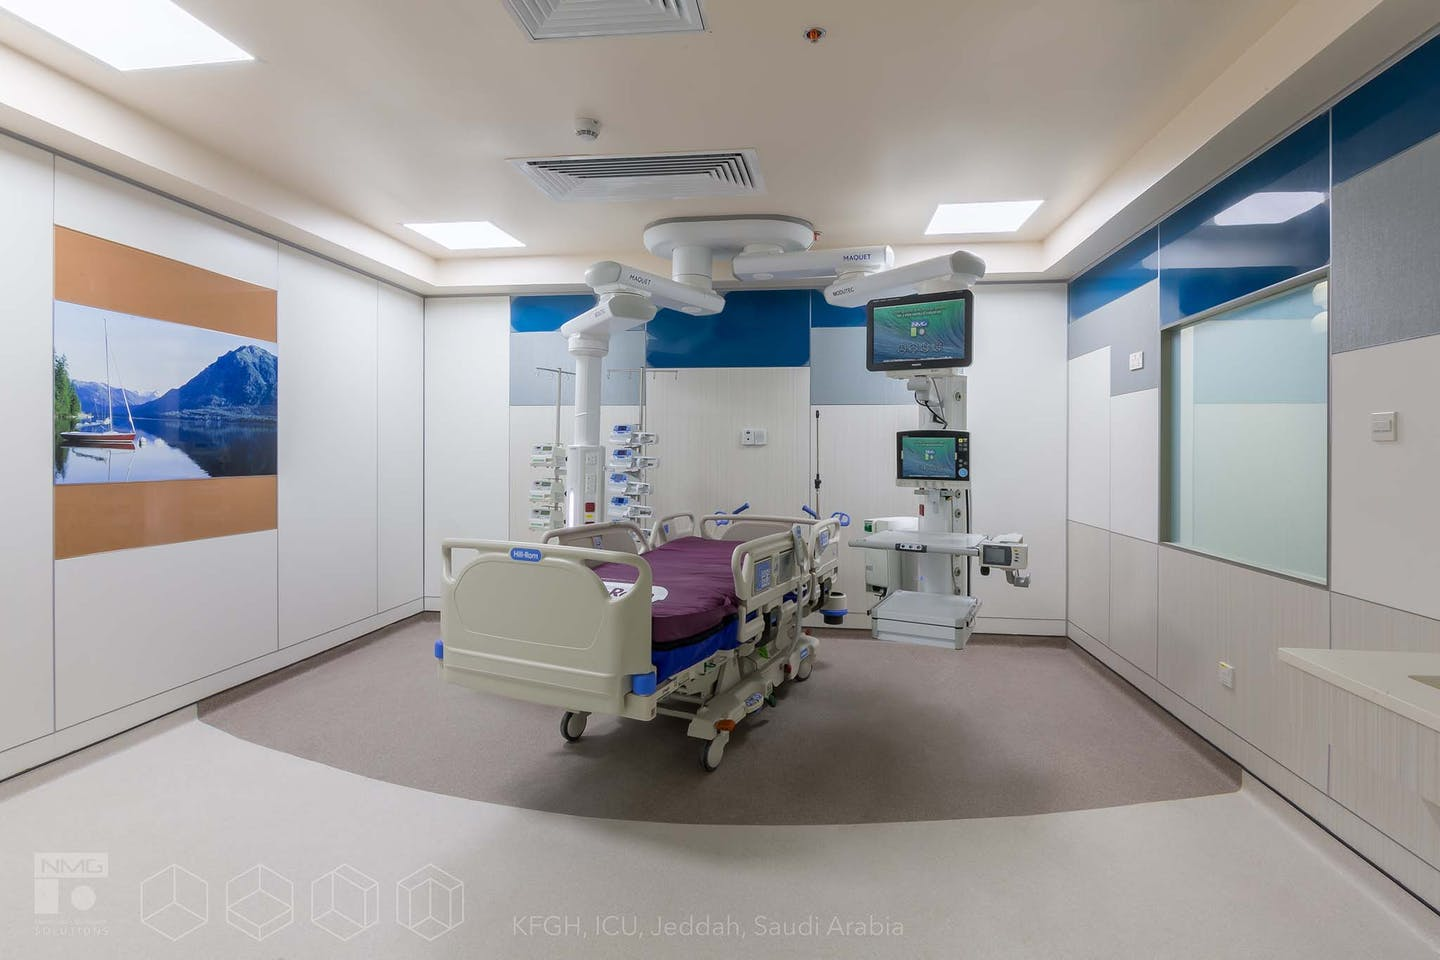bedrail: (730, 515, 846, 641), (539, 511, 697, 573)
bedside_monitor: (859, 283, 986, 380), (886, 419, 982, 504)
foot_board: (430, 534, 660, 723)
hospital_bed: (427, 508, 850, 772)
iv_pole: (603, 366, 689, 504), (532, 367, 580, 529)
syringe_pump: (530, 442, 568, 466), (530, 482, 568, 505), (614, 450, 651, 469), (607, 502, 651, 519), (607, 475, 651, 491), (615, 426, 658, 442)
